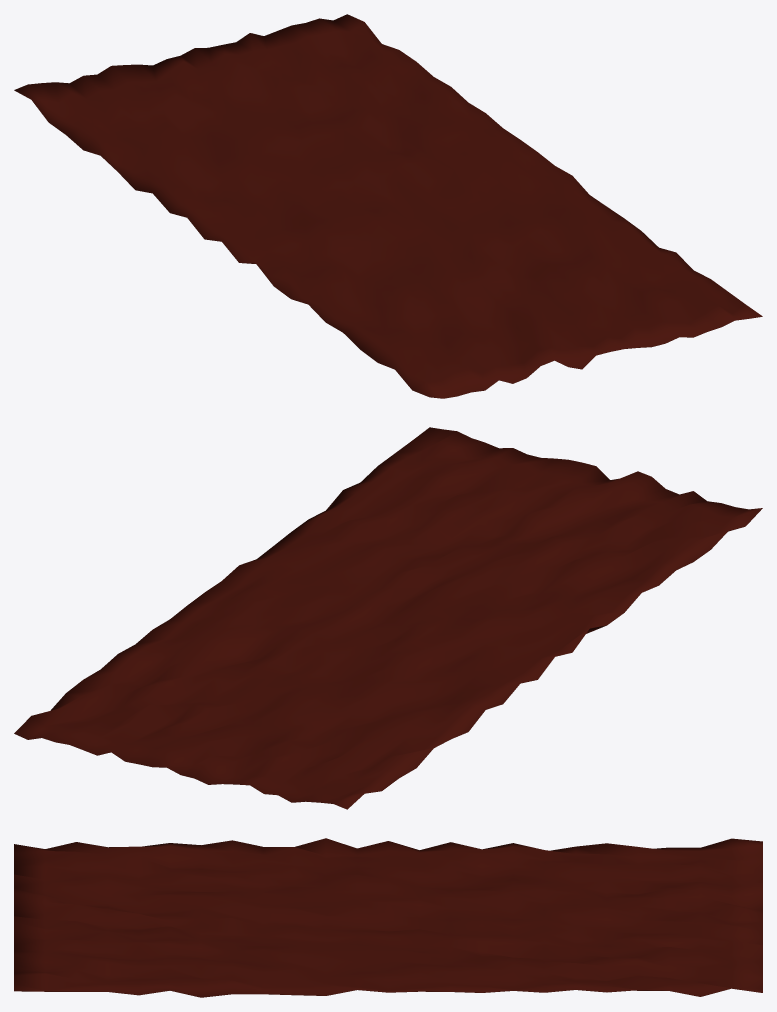
File: Jungle.fbx
3 renders of one model, top to bottom at view 1: azimuth 30°, elevation 25°; view 2: azimuth 150°, elevation 25°; view 3: azimuth 270°, elevation 25°, orthographic. The views are drawn at different scales.
Visible parts, largest first — view 1: Plane; view 2: Plane; view 3: Plane.
Part boxes in pixels (box(x1,y1,x2,y2)): Plane: box(14, 14, 762, 398); Plane: box(14, 427, 762, 809); Plane: box(14, 838, 762, 997).
Size of the model in its own units: 2792 by 151 by 6028.
